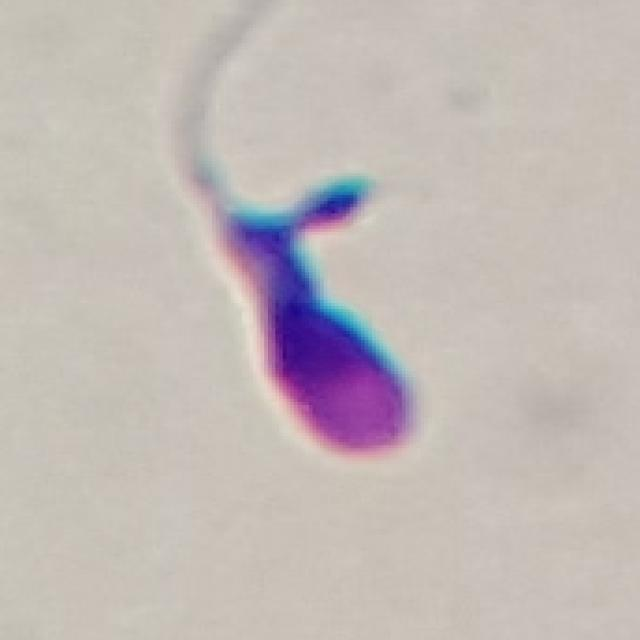abnormal sperm: (143, 32, 425, 460)
